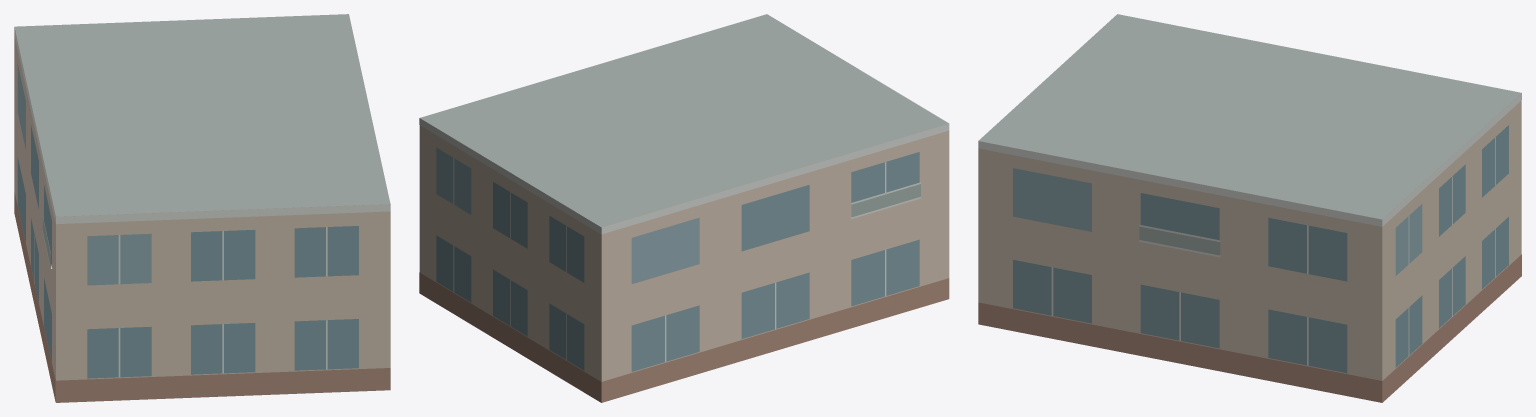
The model's file is survey-upis-33004503.glb.
The picture shows the model from 3 angles, left to right: view 1: azimuth 30°, elevation 25°; view 2: azimuth 150°, elevation 25°; view 3: azimuth 270°, elevation 25°; orthographic projection. The views are drawn at different scales.
Visible parts, largest first — view 1: survey-upis-33004503.tmp; view 2: survey-upis-33004503.tmp; view 3: survey-upis-33004503.tmp.
Boxes of the visible parts, <box> form: survey-upis-33004503.tmp: <box>14,14,390,402</box>; survey-upis-33004503.tmp: <box>419,14,949,402</box>; survey-upis-33004503.tmp: <box>978,14,1521,402</box>.
Size of the model in its own units: 14.68 by 6.1 by 16.4.
